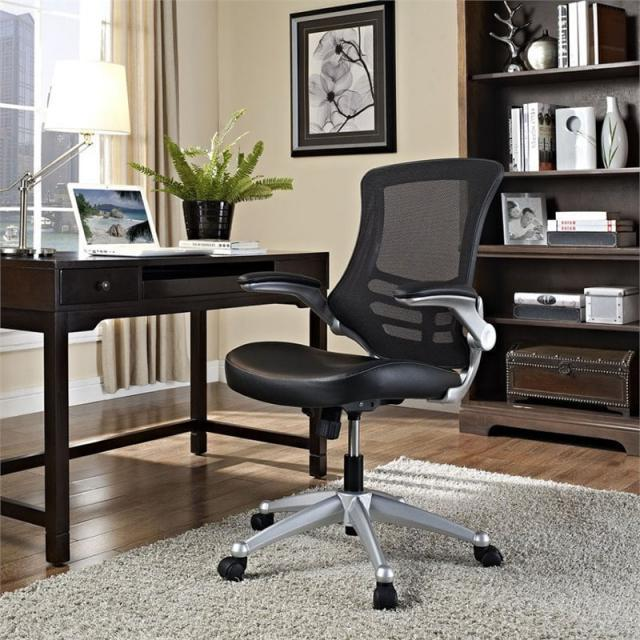chair: (214, 154, 497, 548)
